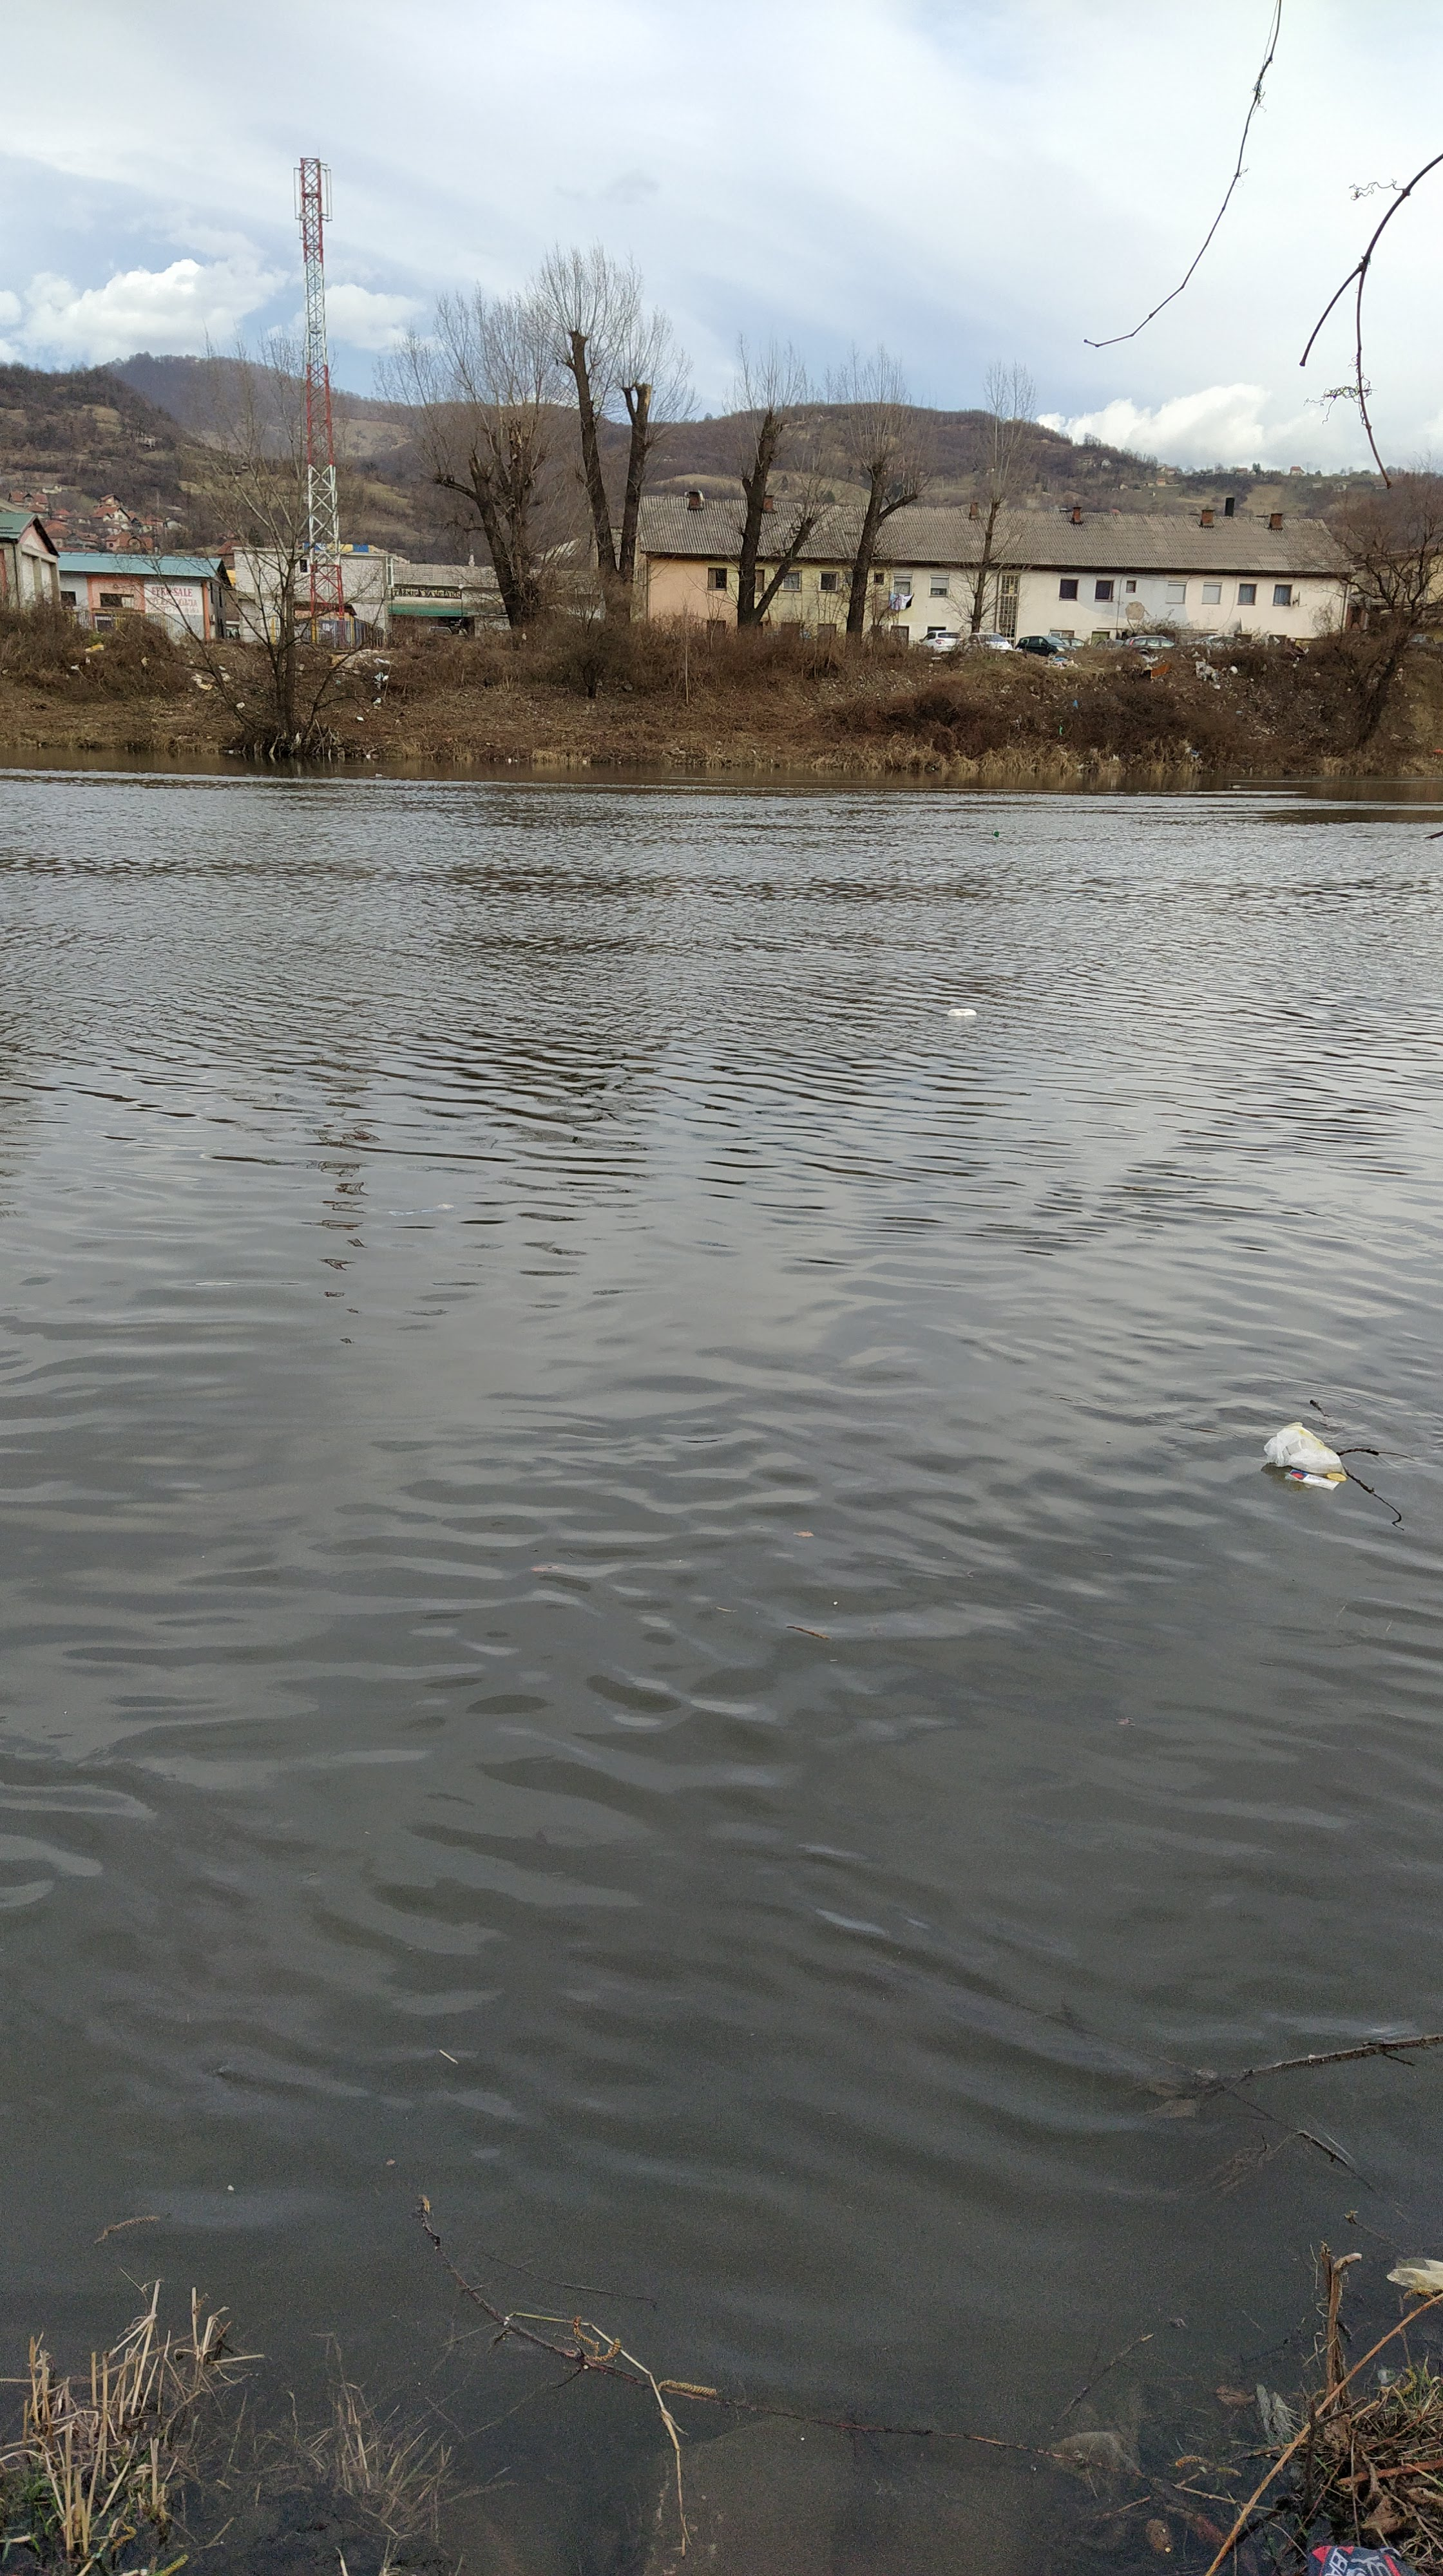Plastic Bottle: (947, 1008, 976, 1016), (993, 830, 999, 835), (375, 771, 381, 777)
